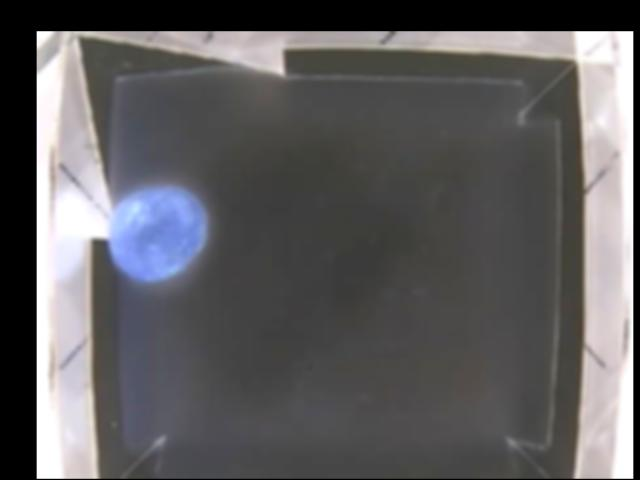Potato: (108, 187, 209, 279)
